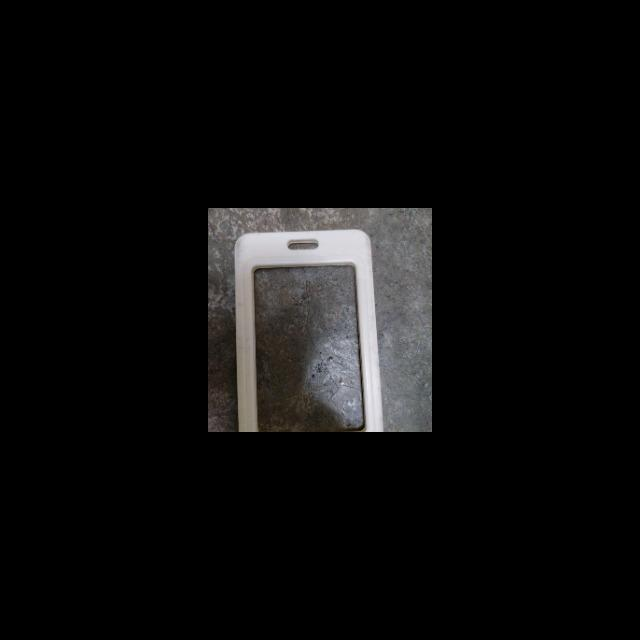plastic: (226, 228, 375, 432)
